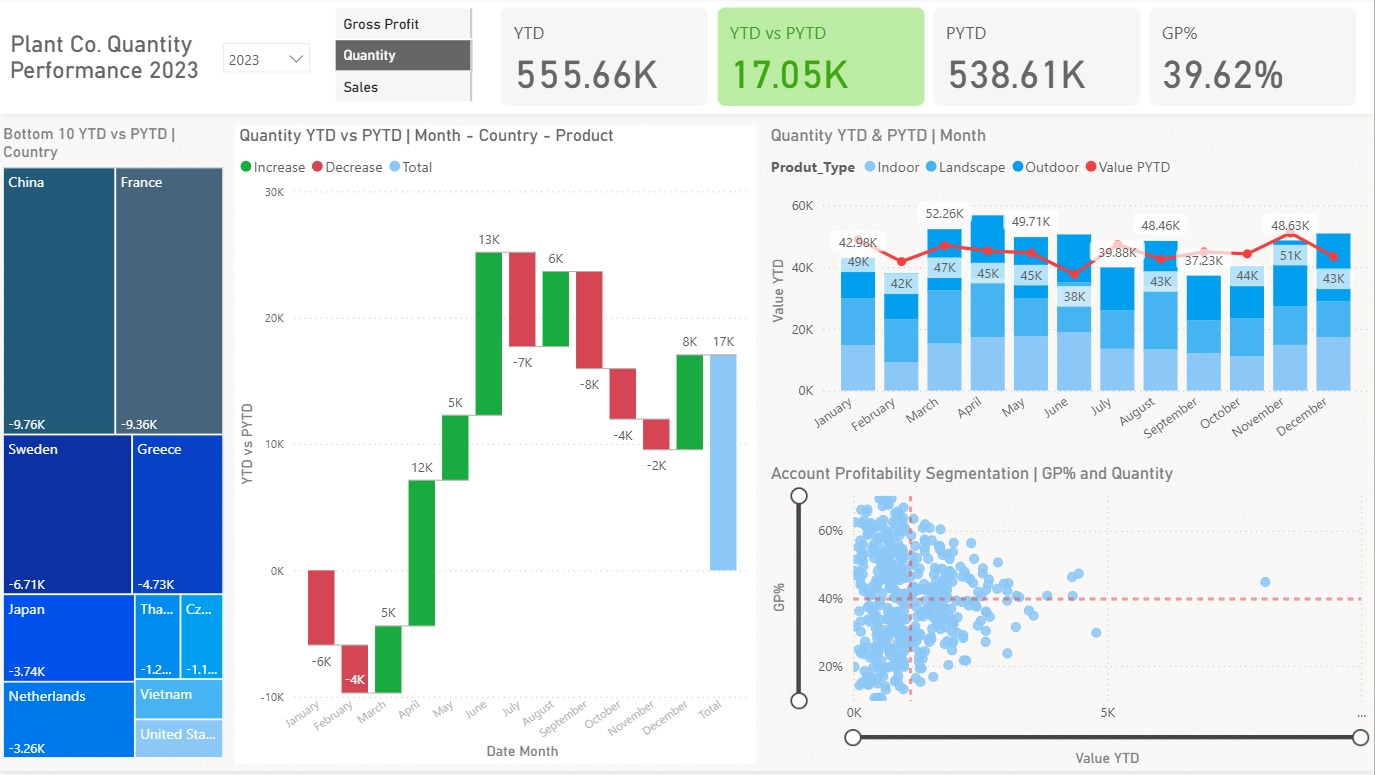

Layout of this report page (visuals, bound fields, positions):
{"tool":"powerbi","page":{"name":"Performance Report","canvas":[1280,720],"ordinal":0},"visuals":[{"type":"cardVisual","fields":{"Data":["_Measures.S_YTD","_Measures.YTD vs PYTD","_Measures.S_PYTD","_Measures.GP%"]},"box":[567.4,0,712.8,124.4],"z":0},{"type":"advancedSlicerVisual","fields":{"Values":["Slc_values.Values"]},"box":[398.8,0,168.6,124.4],"z":1000},{"type":"slicer","fields":{"Values":["Dim_Date.Date.Variation.Date Hierarchy.Year"]},"box":[253.5,18.6,145.3,88.4],"z":2000},{"type":"treemap","title":"Bottom 10 YTD vs PYTD by Country","fields":{"Values":["_Measures.YTD vs PYTD"],"Group":["Dim_Accounts.country"]},"box":[0,124.4,300,596.5],"z":3000},{"type":"waterfallChart","fields":{"Y":["_Measures.YTD vs PYTD"],"Category":["Dim_Date.Date.Variation.Date Hierarchy.Month","Dim_Accounts.country","Dim_Product.Produt_Type","Dim_Product.Product_Name_id"]},"box":[300.5,124.9,443.2,595.5],"z":4000},{"type":"lineStackedColumnComboChart","fields":{"Y":["_Measures.S_YTD"],"Category":["Dim_Date.Date.Variation.Date Hierarchy.Quarter","Dim_Date.Date.Variation.Date Hierarchy.Month"],"Y2":["_Measures.S_PYTD"],"Series":["Dim_Product.Produt_Type"]},"box":[743.7,124.9,535.2,297.8],"z":5000},{"type":"scatterChart","fields":{"X":["_Measures.S_YTD"],"Y":["_Measures.GP%"],"Category":["Dim_Accounts.Account"]},"box":[743.7,422.6,535.2,297.8],"z":6000},{"type":"card","fields":{"Values":["_Measures._Overall"]},"box":[0,0,253.5,124.4],"z":7000}]}

Visuals, with their boxes in screenshot pixels (x1, y1, x2, y2), scaled from the page's 1280x720 canvas onto the 1375x775 screenshot:
cardVisual - _Measures.S_YTD x _Measures.YTD vs PYTD: 610/0/1374/134
advancedSlicerVisual - Slc_values.Values: 428/0/610/134
slicer - Dim_Date.Date.Variation.Date Hierarchy.Year: 272/20/428/115
"Bottom 10 YTD vs PYTD by Country" treemap: 0/134/322/774
waterfallChart - _Measures.YTD vs PYTD x Dim_Date.Date.Variation.Date Hierarchy.Month: 323/134/799/774
lineStackedColumnComboChart - _Measures.S_YTD x Dim_Date.Date.Variation.Date Hierarchy.Quarter: 799/134/1374/455
scatterChart - _Measures.S_YTD x _Measures.GP%: 799/455/1374/774
card - _Measures._Overall: 0/0/272/134
